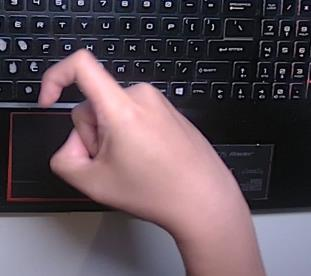anticlockwise: (35, 42, 239, 218)
